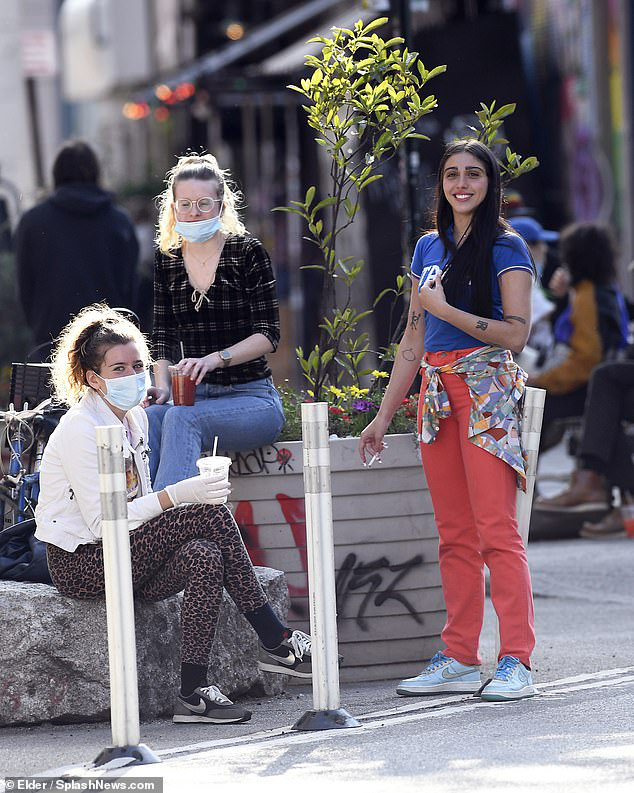mask_weared_incorrect: (170, 163, 229, 245)
with_mask: (76, 337, 154, 411)
without_mask: (440, 156, 488, 216)
